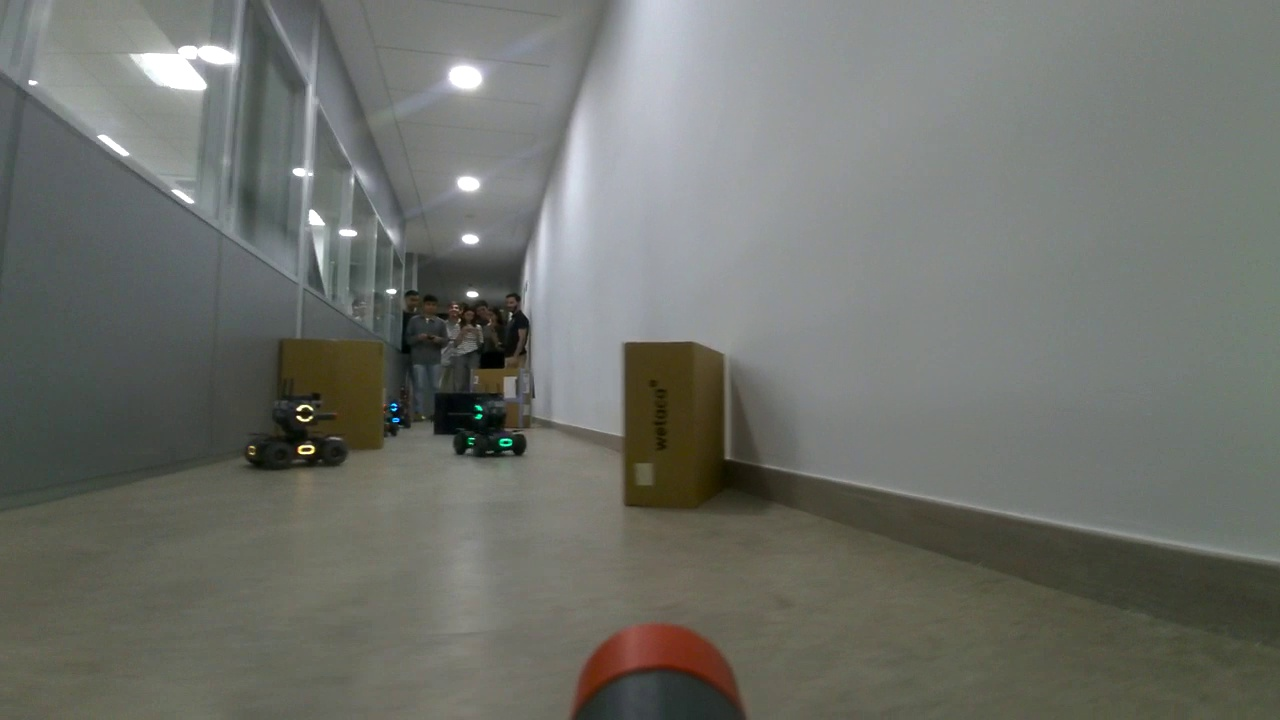robot: (245, 395, 351, 474), (449, 397, 531, 459)
